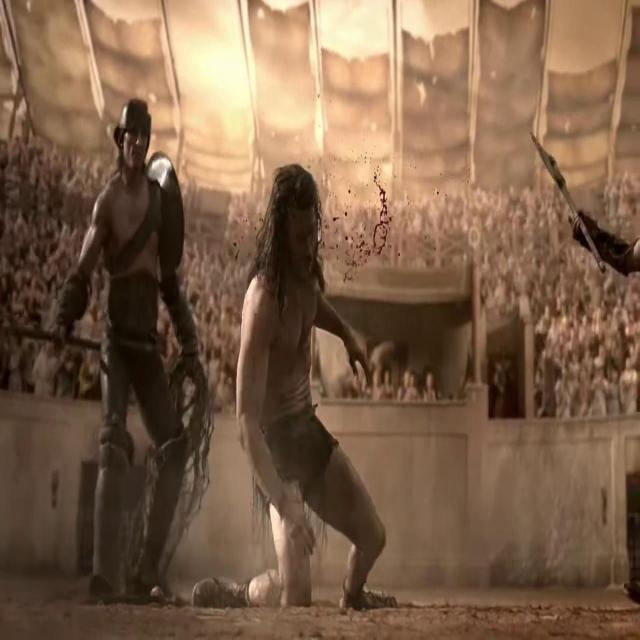flood: (339, 154, 402, 276)
